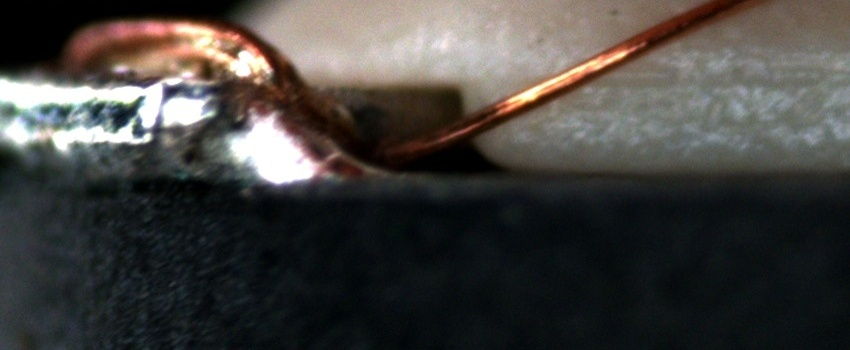DL: (565, 46, 850, 110)
TE: (61, 12, 292, 79)
